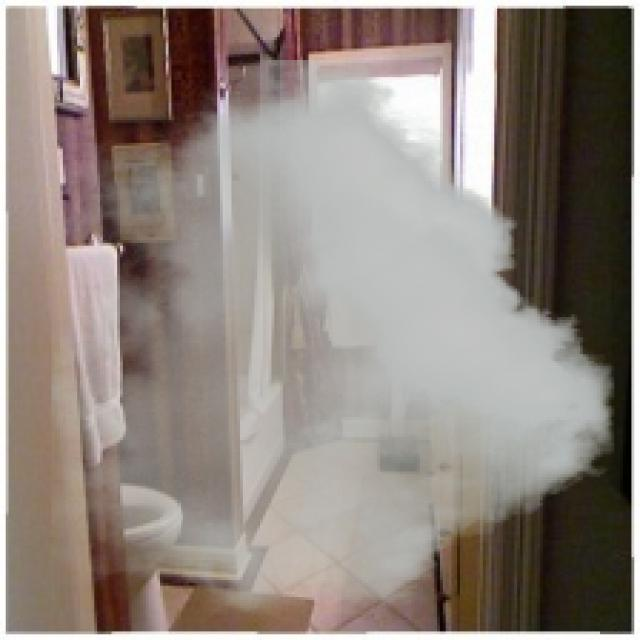smoke: (51, 60, 614, 614)
